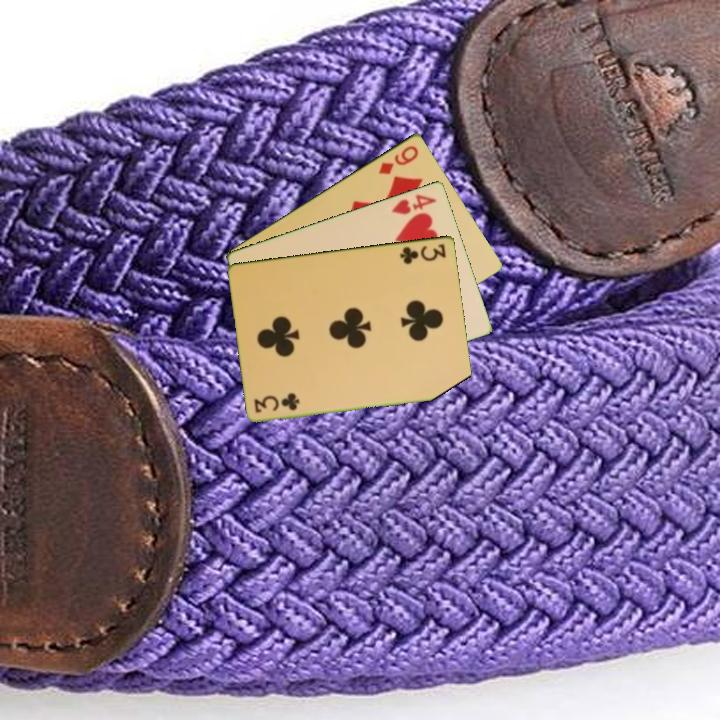3c: (397, 240, 449, 267), (251, 391, 303, 415)
4h: (389, 190, 439, 217)
9d: (375, 141, 422, 177)
